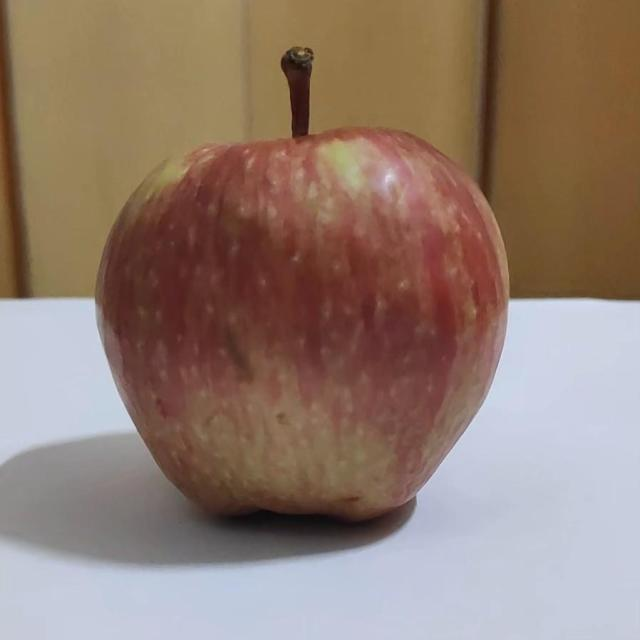Apple: (97, 47, 508, 520)
